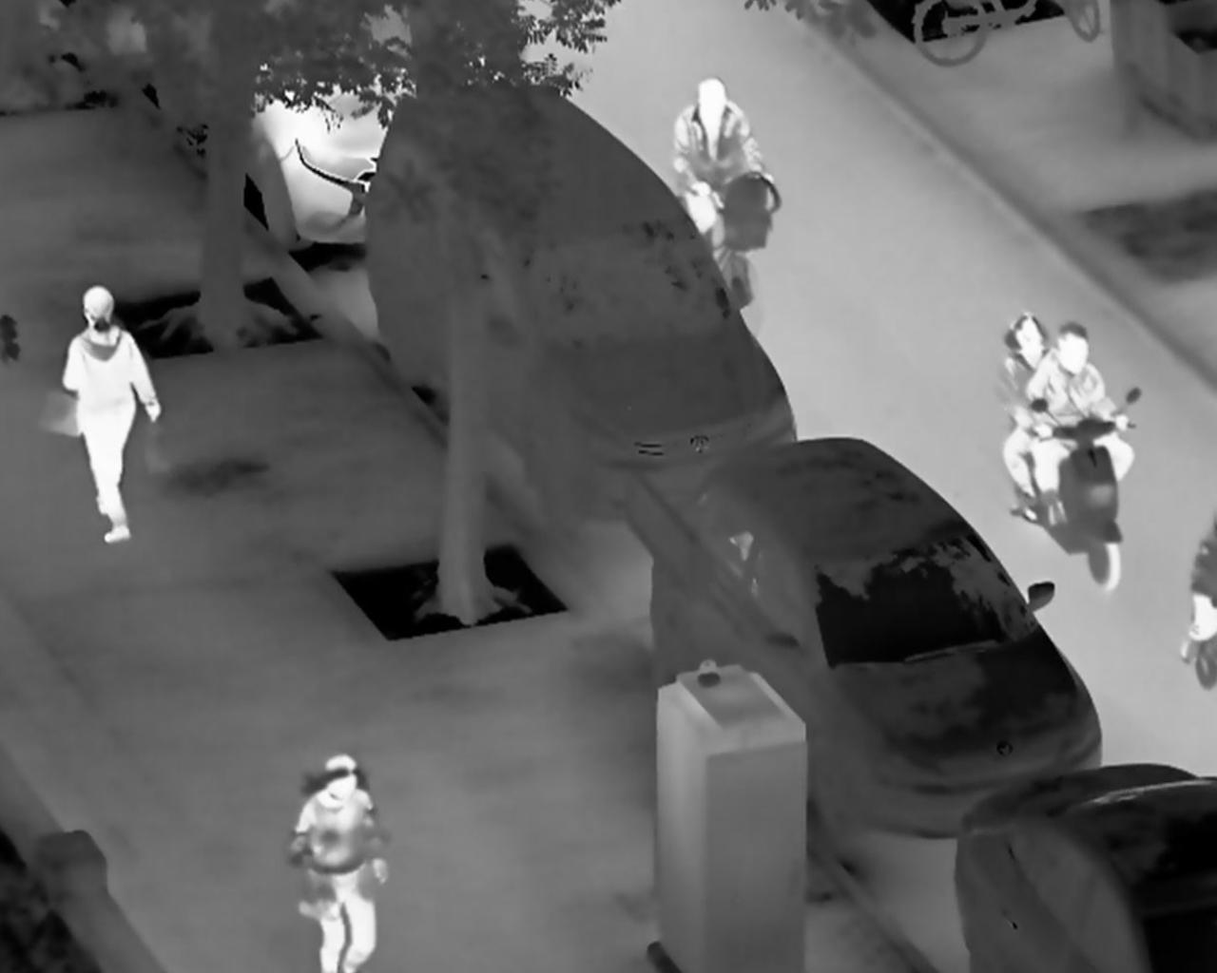person: (59, 284, 165, 546), (1021, 320, 1135, 528), (287, 753, 392, 973), (672, 76, 778, 239)
